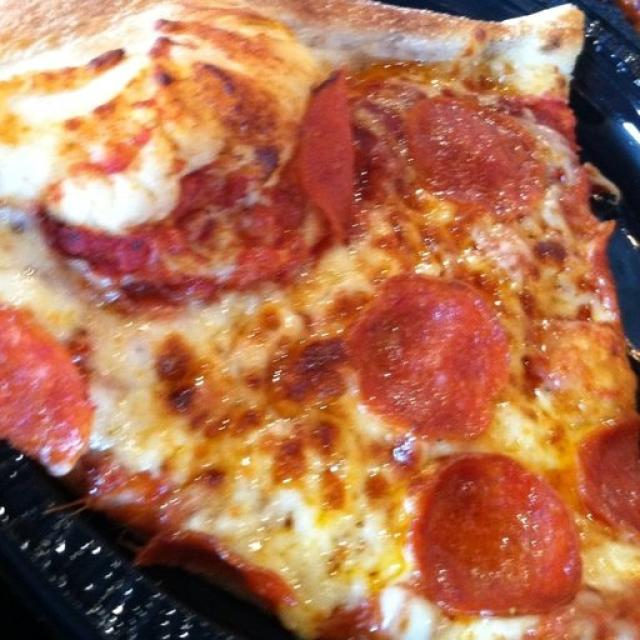Pepperoni: (413, 450, 596, 616), (342, 276, 515, 438), (0, 298, 92, 475), (413, 95, 518, 190), (585, 424, 640, 541)
